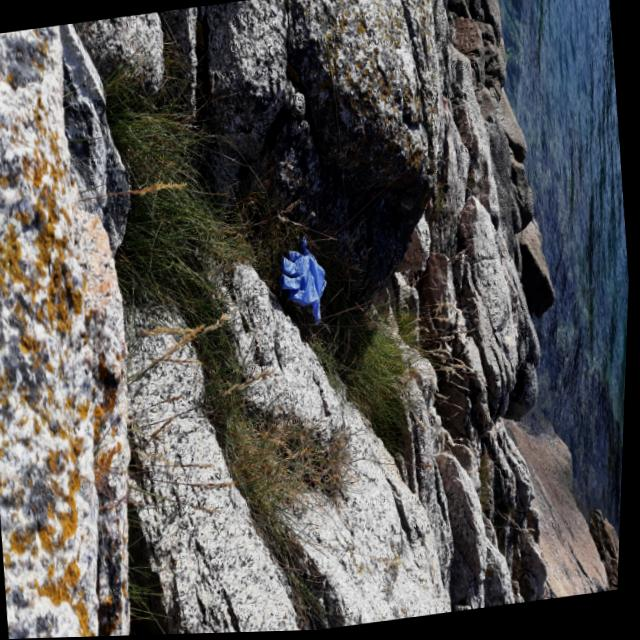Plastic: (274, 230, 337, 333)
